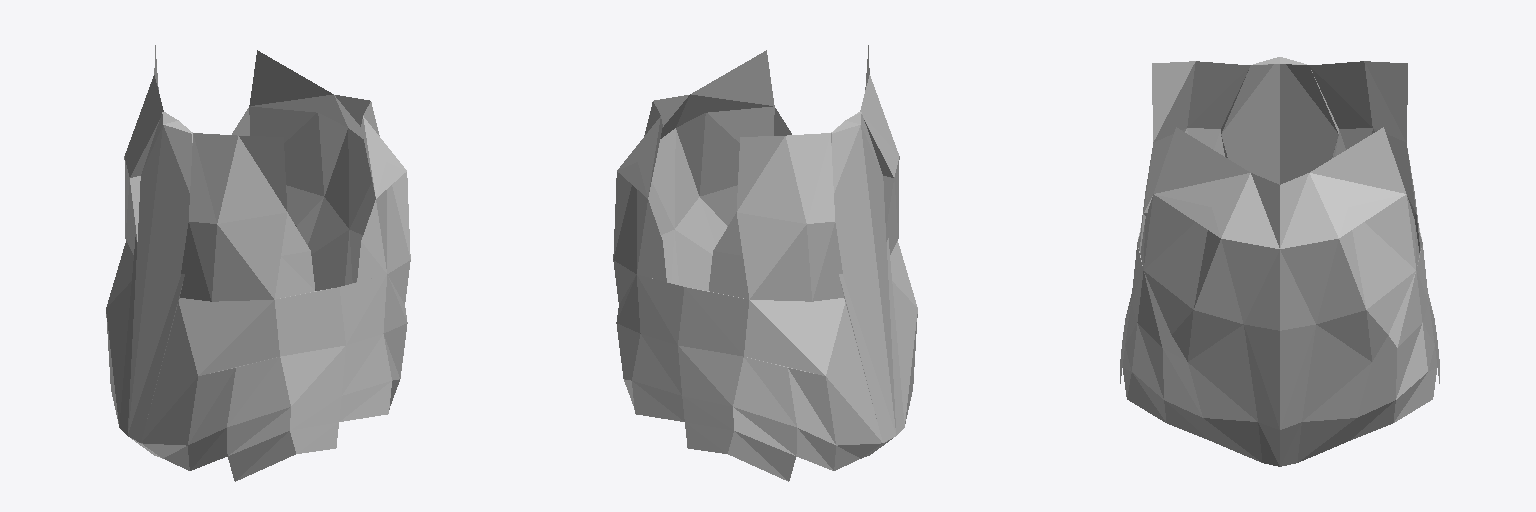
The model's file is badan1.obj.
3 renders of one model, left to right at view 1: azimuth 30°, elevation 25°; view 2: azimuth 150°, elevation 25°; view 3: azimuth 270°, elevation 25°, orthographic.
Parts seen in each view (by area): view 1: Body.000; view 2: Body.000; view 3: Body.000.
Part boxes in pixels (x1,y1,x2,y2): Body.000: (106, 45, 410, 481); Body.000: (613, 45, 917, 481); Body.000: (1120, 57, 1439, 466).
Bounding box in the file's own units: 0.6098 × 0.7932 × 0.6592.